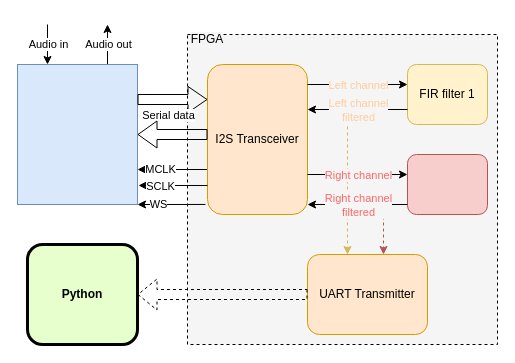
Some shapes in this 515 by 363 pixel diagram are drawn without their labels. Here are the shapes that lost their labels. From the top down, the centre of each, then its label:
At point 77,134: "PMOD I2S".
At point 447,184: "FIR filter 2".
